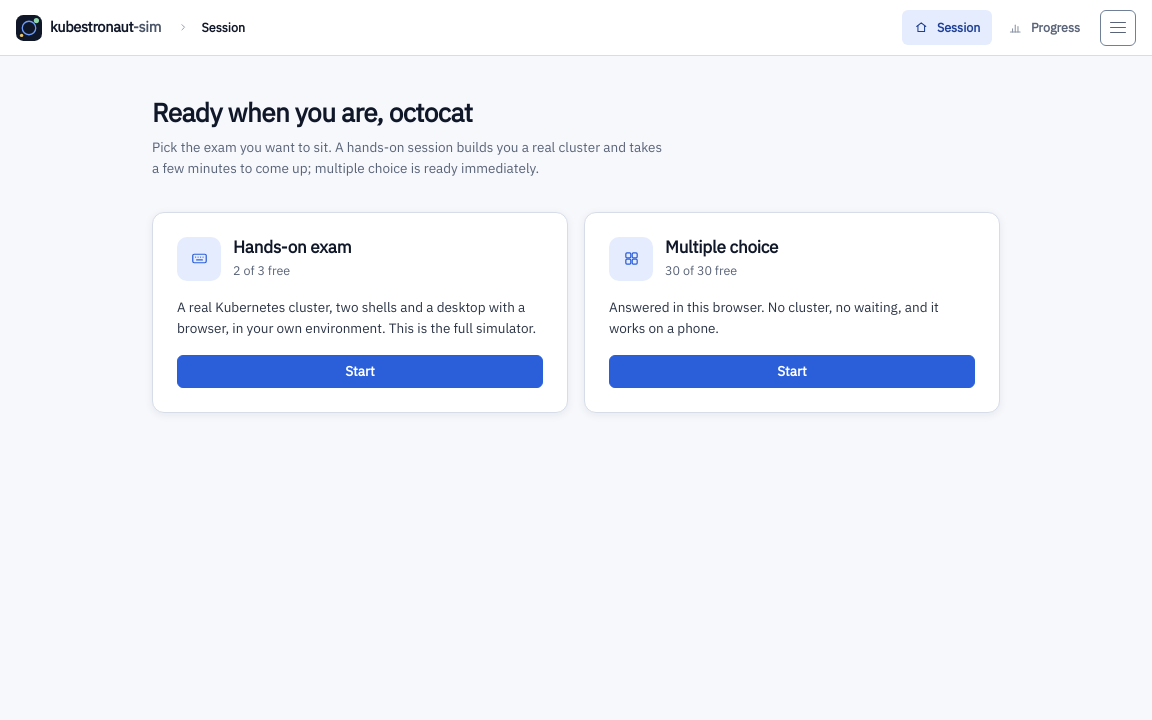
Test: a full pool answers 409 with a place in the queue
The width and height of the screenshot is (1152, 720).
Expected: the heading "Ready when you are, octocat" is shown, [152,95,472,129]
Click the button "Start" below "2 of 3 free". click: (360, 371)
box: [177,354,543,388]
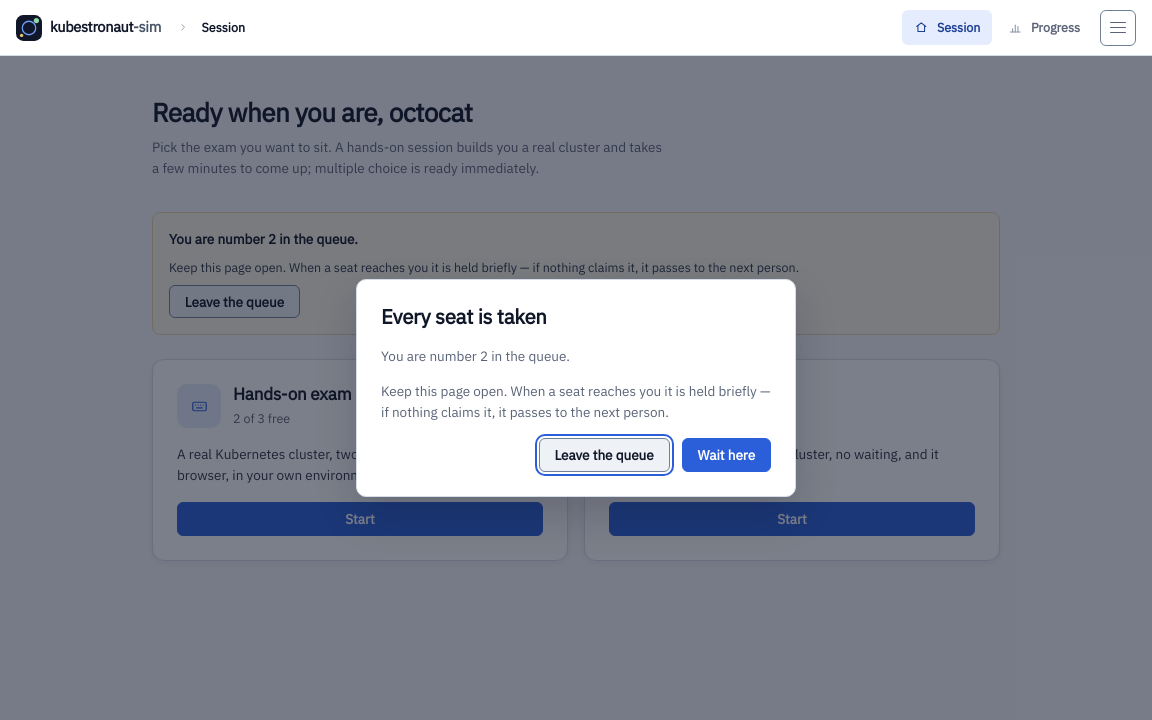
Expected: the dialog shows "number 2 in the queue", [381,347,570,365]
Expected: the dialog shows "held briefly", [381,382,770,420]
Click the button "Wait here". click: (726, 455)
box: [682,438,771,472]
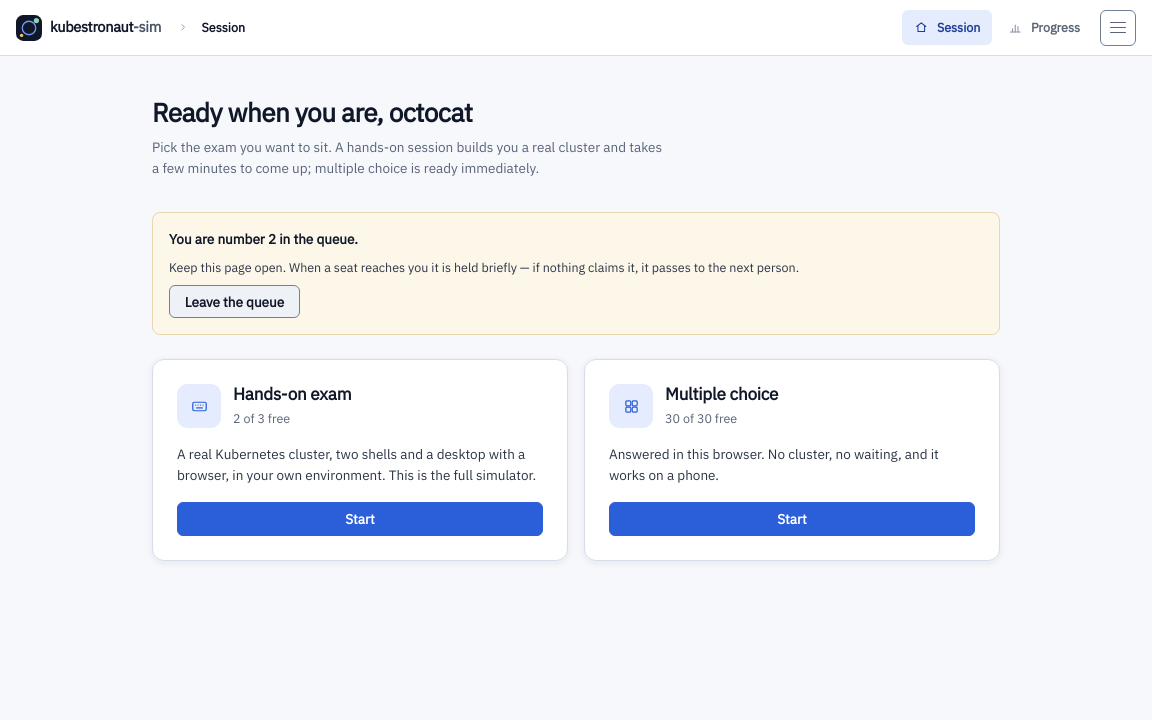
Expected: the text "You are number 2 in the queue." is shown, [169,229,358,250]
Expected: the dialog is gone
